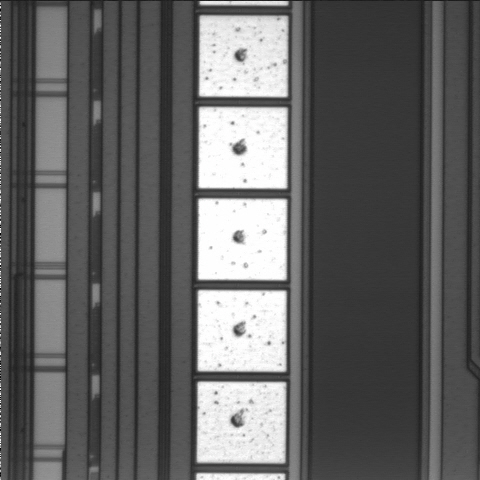pad: (198, 107, 287, 189), (198, 198, 287, 280), (198, 290, 286, 372), (199, 16, 288, 97), (197, 382, 286, 463)
